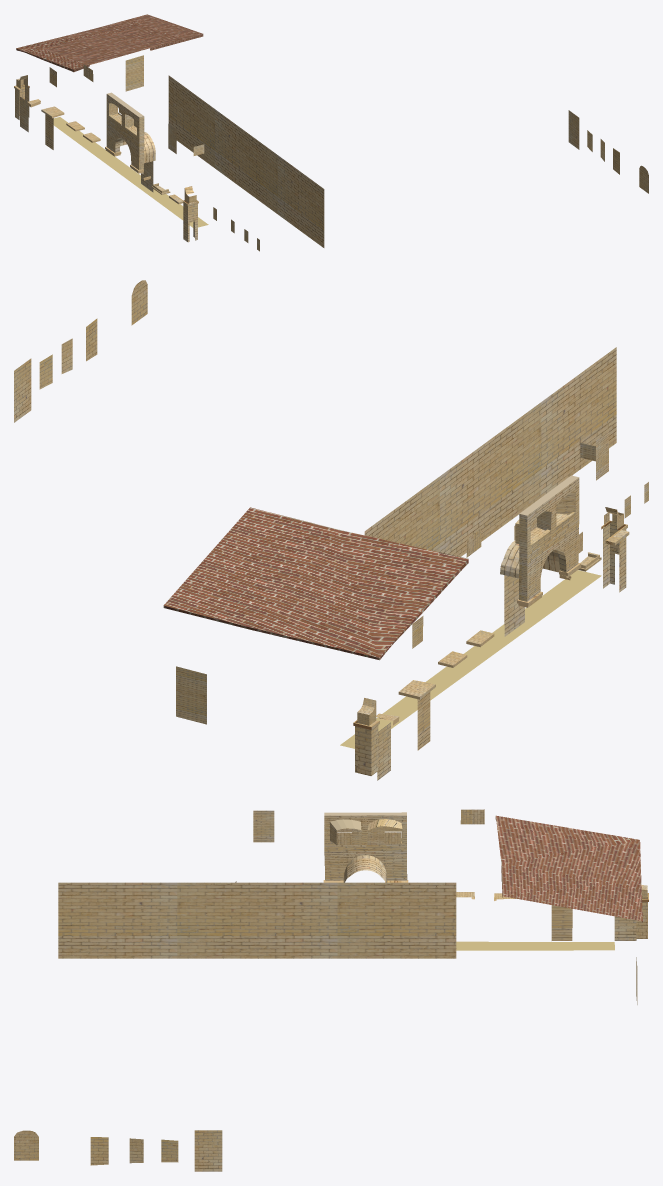
File: catedral10bx.fbx
3 renders of one model, top to bottom at view 1: azimuth 30°, elevation 25°; view 2: azimuth 150°, elevation 25°; view 3: azimuth 270°, elevation 25°, orthographic. The views are drawn at different scales.
Visible parts, largest first — view 1: Cube.025, Cube.044, Cube.077, Cube.036, Cube.097, Cube.087, Cube.076; view 2: Cube.044, Cube.025, Cube.077, Cube.036, Cube.097, Cube.087, Cube.076, Cube.046; view 3: Cube.025, Cube.044, Cube.036, Cube.076, Cube.077, Cube.097, Cube.046, Cube.047.
Part boxes in pixels (bbox=[...]): Cube.025: bbox=[168, 75, 324, 247]; Cube.044: bbox=[16, 14, 203, 72]; Cube.077: bbox=[14, 55, 259, 251]; Cube.036: bbox=[106, 92, 155, 174]; Cube.097: bbox=[53, 117, 208, 227]; Cube.087: bbox=[15, 75, 197, 242]; Cube.076: bbox=[568, 110, 648, 193]; Cube.044: bbox=[163, 507, 468, 660]; Cube.025: bbox=[364, 347, 616, 556]; Cube.077: bbox=[176, 431, 648, 729]; Cube.036: bbox=[500, 475, 579, 601]; Cube.097: bbox=[340, 570, 601, 748]; Cube.087: bbox=[355, 507, 626, 775]; Cube.076: bbox=[14, 280, 147, 422]; Cube.046: bbox=[417, 692, 430, 750]; Cube.025: bbox=[58, 882, 456, 958]; Cube.044: bbox=[495, 815, 642, 922]; Cube.036: bbox=[324, 812, 407, 882]; Cube.076: bbox=[14, 1130, 222, 1171]; Cube.077: bbox=[253, 809, 648, 1004]; Cube.097: bbox=[456, 941, 614, 950]; Cube.046: bbox=[551, 905, 572, 940]; Cube.047: bbox=[614, 916, 636, 940].
Size of the model in its own units: 20187 by 5164 by 22134.
